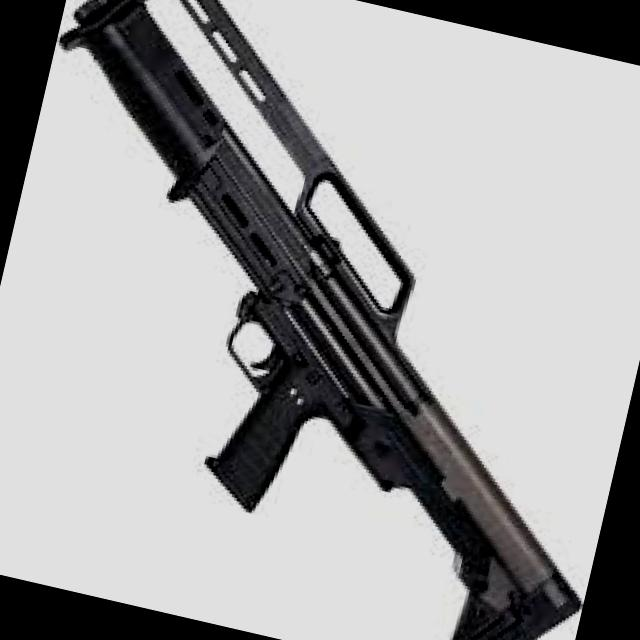long weapon: (51, 0, 589, 640)
